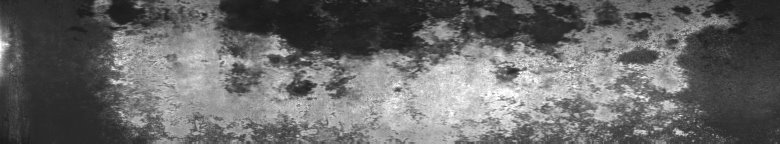kb: (396, 4, 739, 136)
